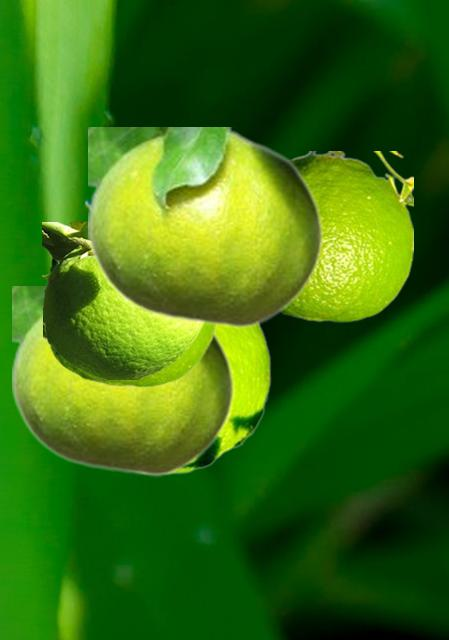dalandan: (88, 127, 323, 328), (12, 286, 234, 476), (43, 218, 216, 386), (42, 222, 205, 378), (280, 151, 412, 321), (174, 326, 270, 474)
